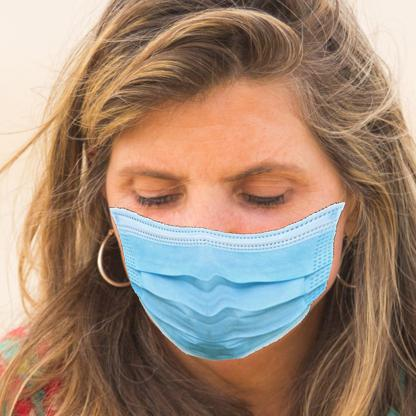mask: (104, 203, 347, 363)
